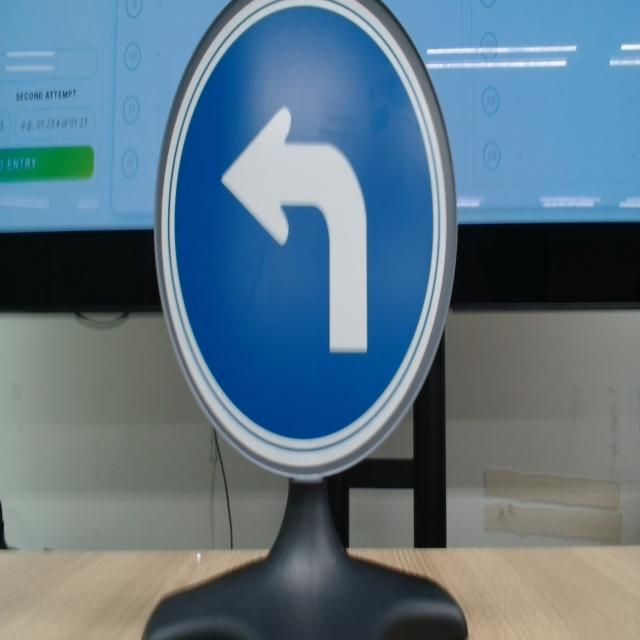left_direction: (145, 0, 461, 488)
